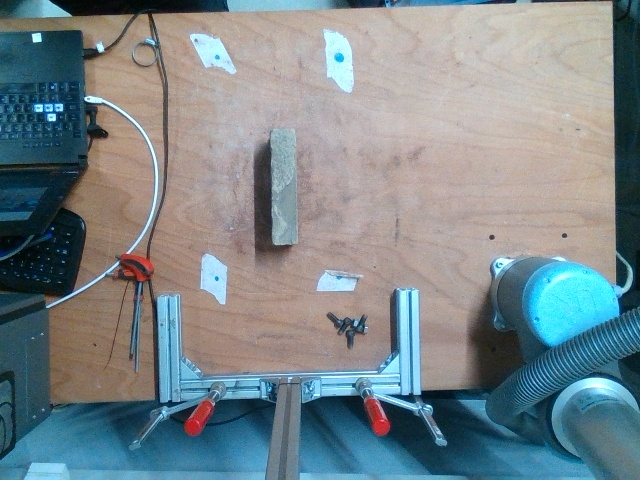brick-side: (271, 129, 295, 242)
